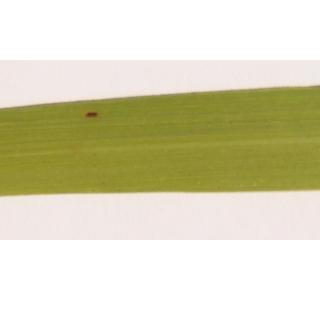bercak-Cokelat: (79, 104, 105, 124)
